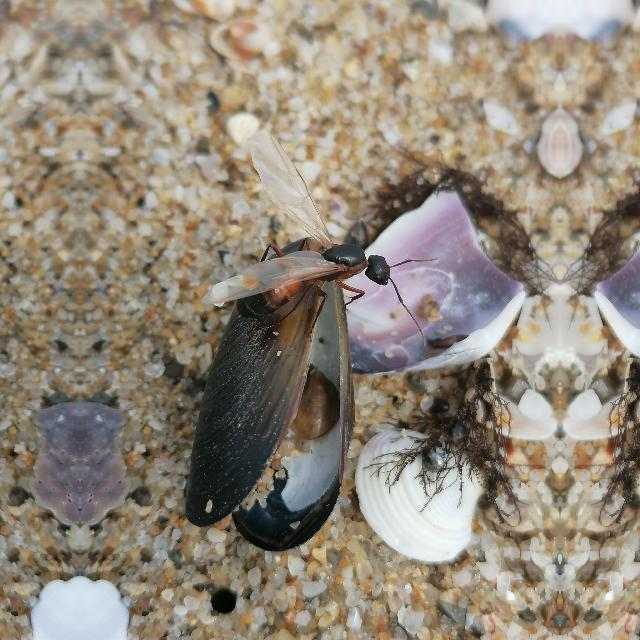Camponotus: (200, 196, 416, 340)
